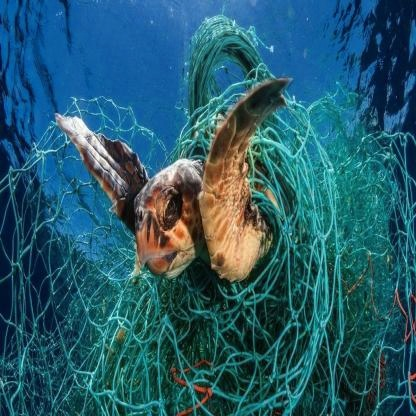net: (14, 101, 407, 416)
